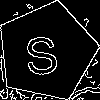S: (21, 27, 61, 76)
